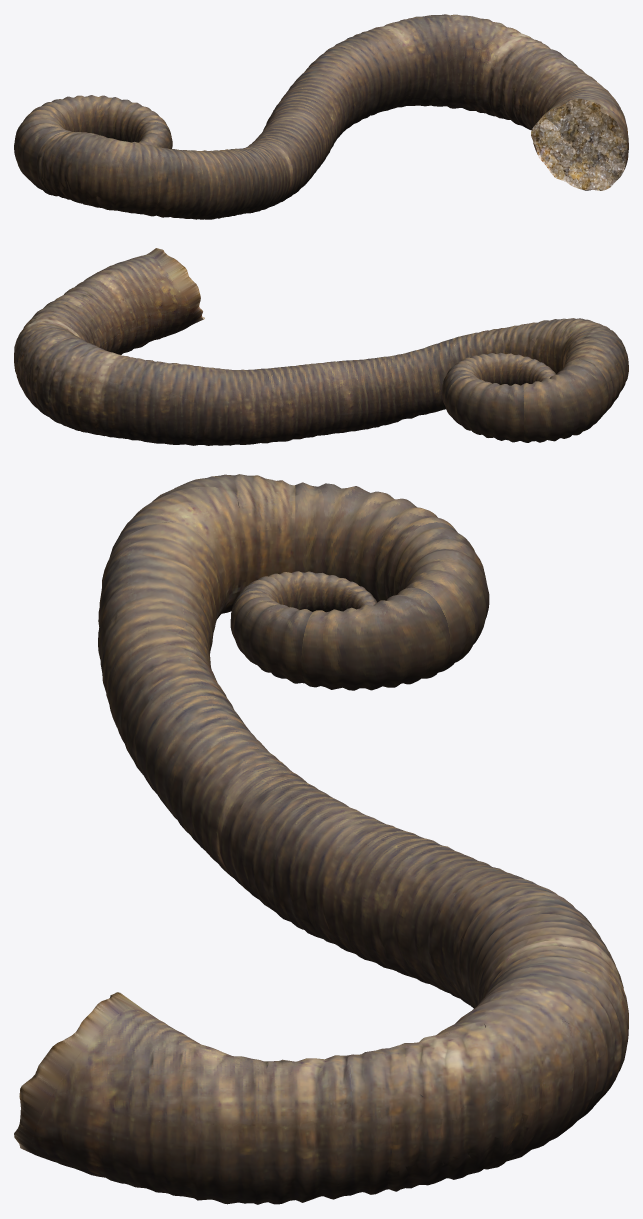
The picture shows the model from 3 angles, top to bottom: view 1: azimuth 30°, elevation 25°; view 2: azimuth 150°, elevation 25°; view 3: azimuth 270°, elevation 25°; orthographic projection. The views are drawn at different scales.
Visible parts, largest first — view 1: world; view 2: world; view 3: world.
Part boxes in pixels (<box>): world: <box>14,14,628,219</box>; world: <box>14,248,628,445</box>; world: <box>14,474,628,1204</box>.
Bounding box in the file's own units: 0.33 × 0.0804 × 0.167.
Materials: 4 (4 with a texture image).
